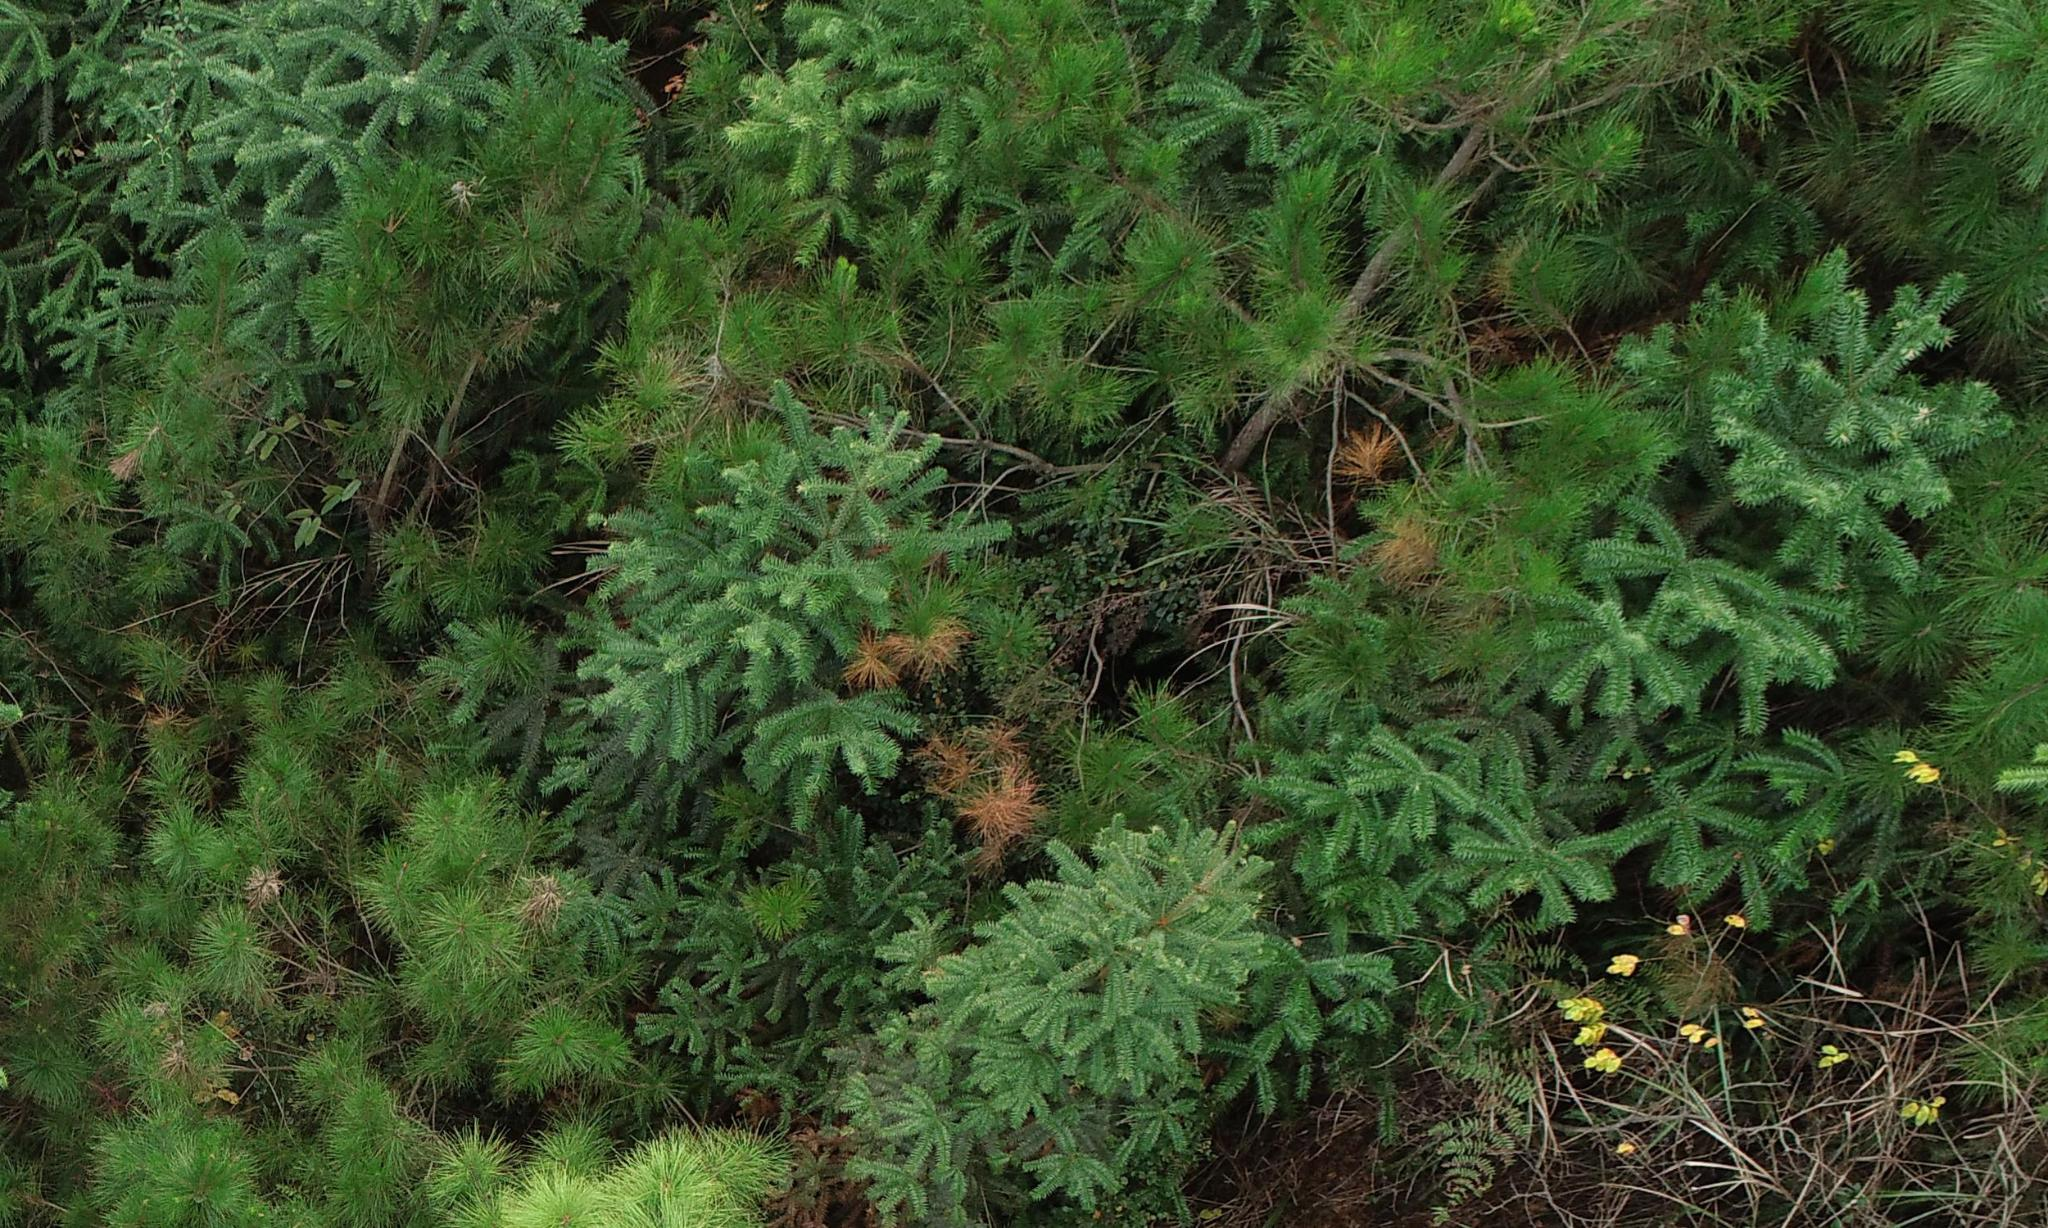heavy: (911, 727, 1035, 851), (1336, 430, 1396, 485)
